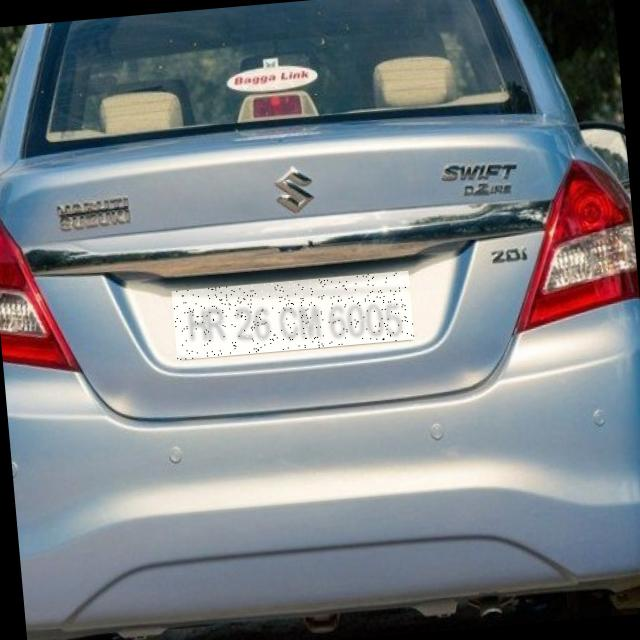Plate: (172, 272, 415, 361)
